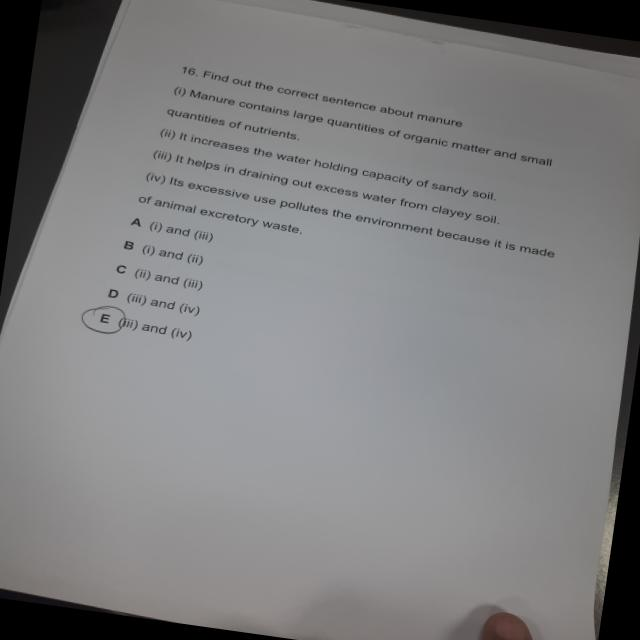E: (78, 302, 131, 342)
